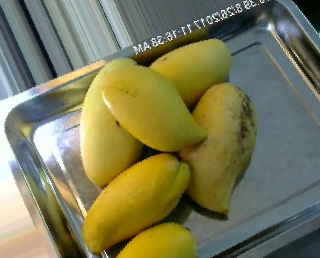Mango: (84, 155, 189, 253), (181, 81, 257, 216), (105, 66, 206, 156), (80, 56, 143, 186), (145, 39, 228, 104), (114, 220, 197, 258)
